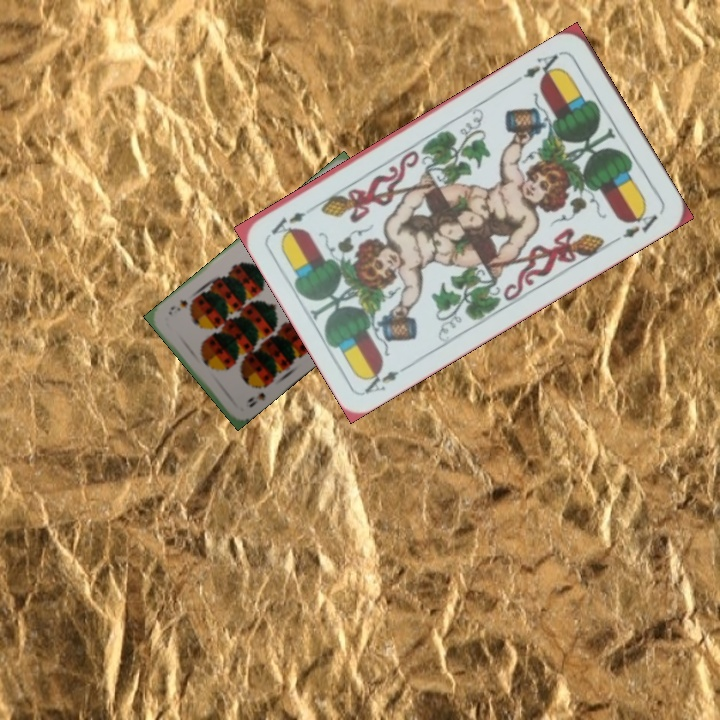EA: (359, 359, 414, 397), (519, 47, 565, 84)
S9: (244, 379, 271, 410)
